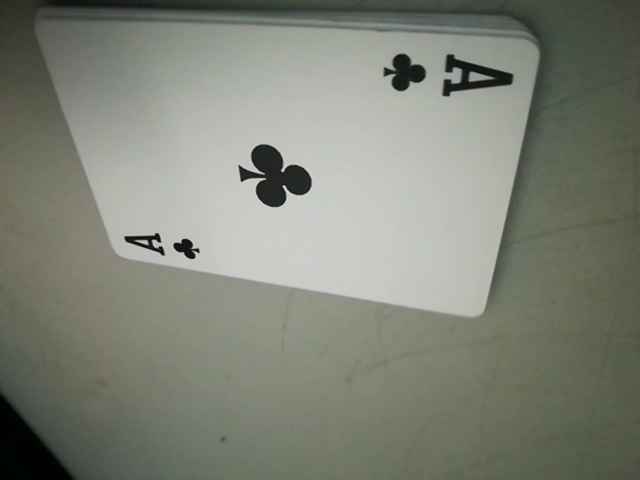mh a: (381, 42, 513, 106), (116, 224, 212, 264)
